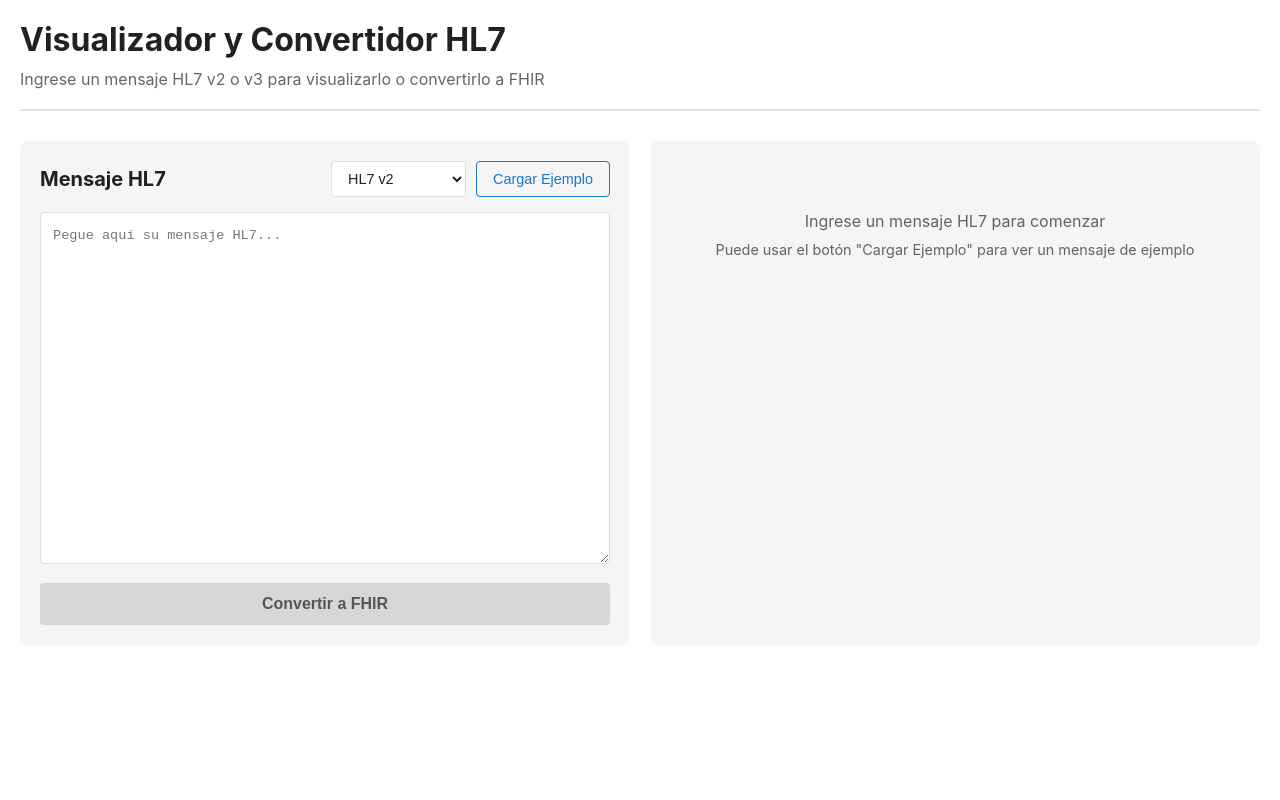
Test: Hl7Page › shows error when fetch response is not ok
Type "INVALID" into the text box with placeholder "Pegue aquí su mensaje HL7..." at (325, 388), box [40, 212, 610, 564]
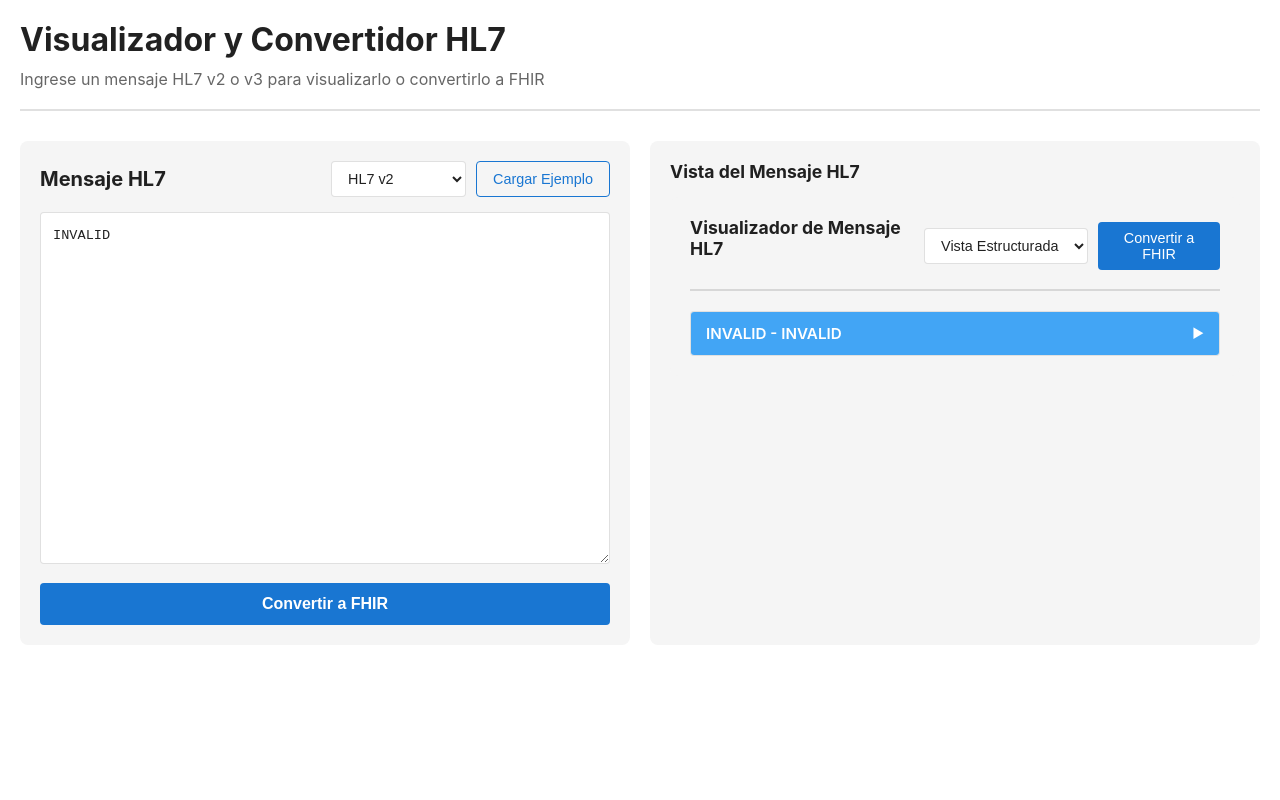
Click the button with class "hl7-convert-button" at (325, 604), box [40, 583, 610, 625]
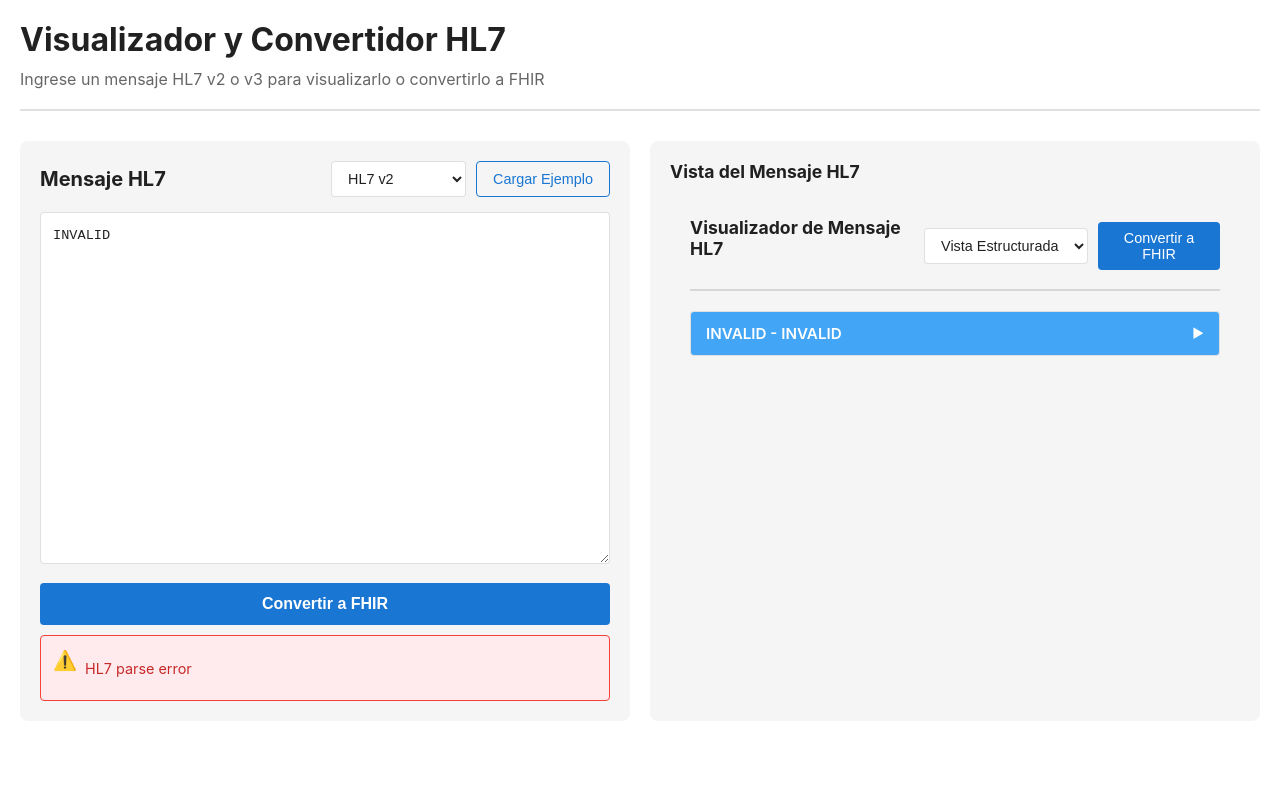
Expected: the text "⚠️ HL7 parse error" is shown, [40, 635, 610, 701]
